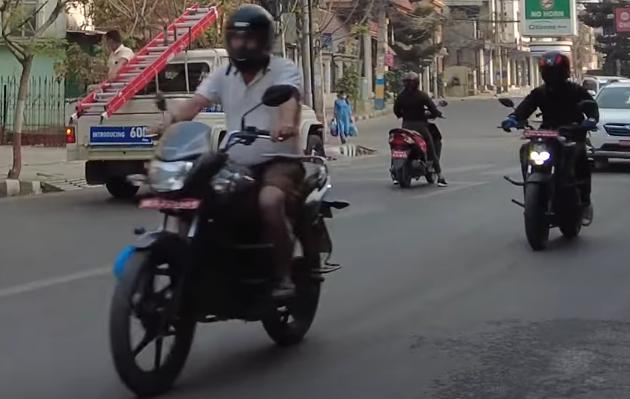bike: (106, 81, 352, 399), (491, 94, 602, 255)
